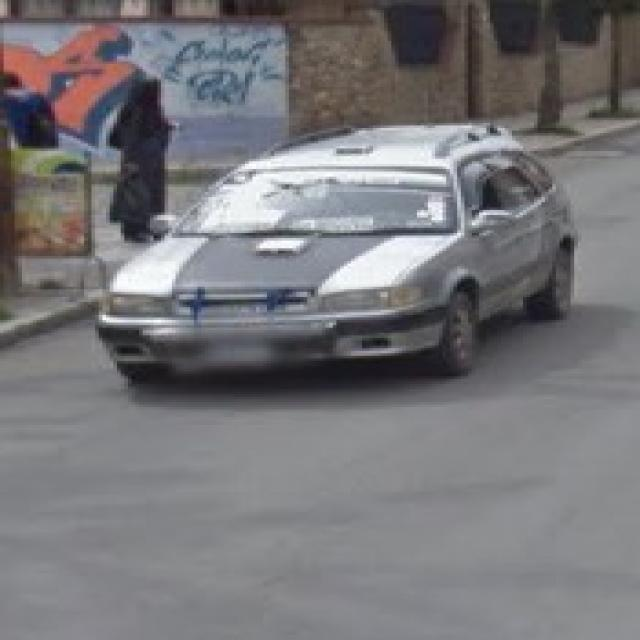cars: (79, 133, 583, 394)
